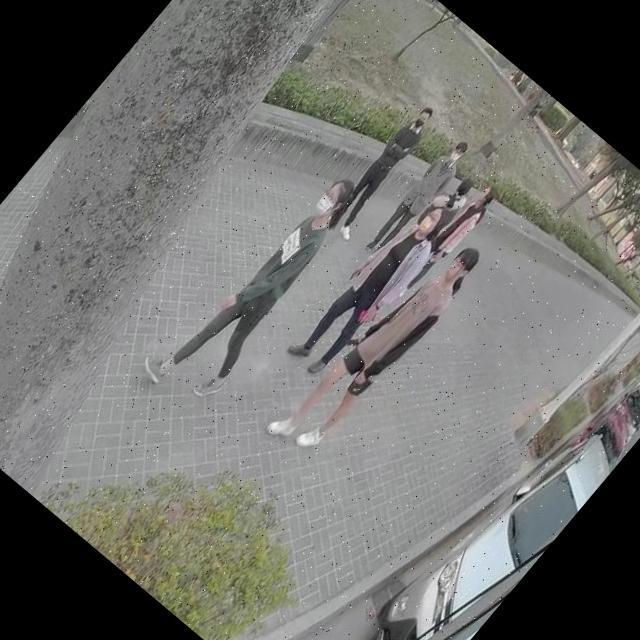person: (128, 140, 387, 424), (256, 213, 492, 476), (277, 178, 467, 388), (323, 98, 449, 238), (388, 166, 509, 304), (360, 134, 474, 263), (413, 162, 485, 238)
